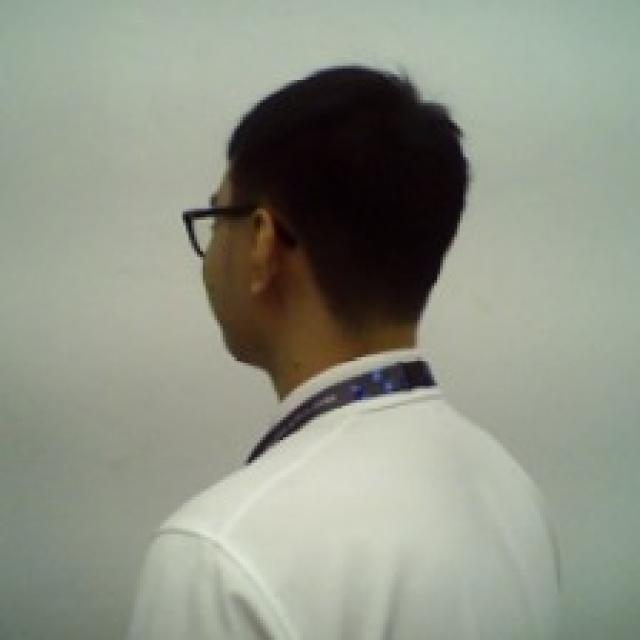no_gloves: (215, 58, 475, 344)
